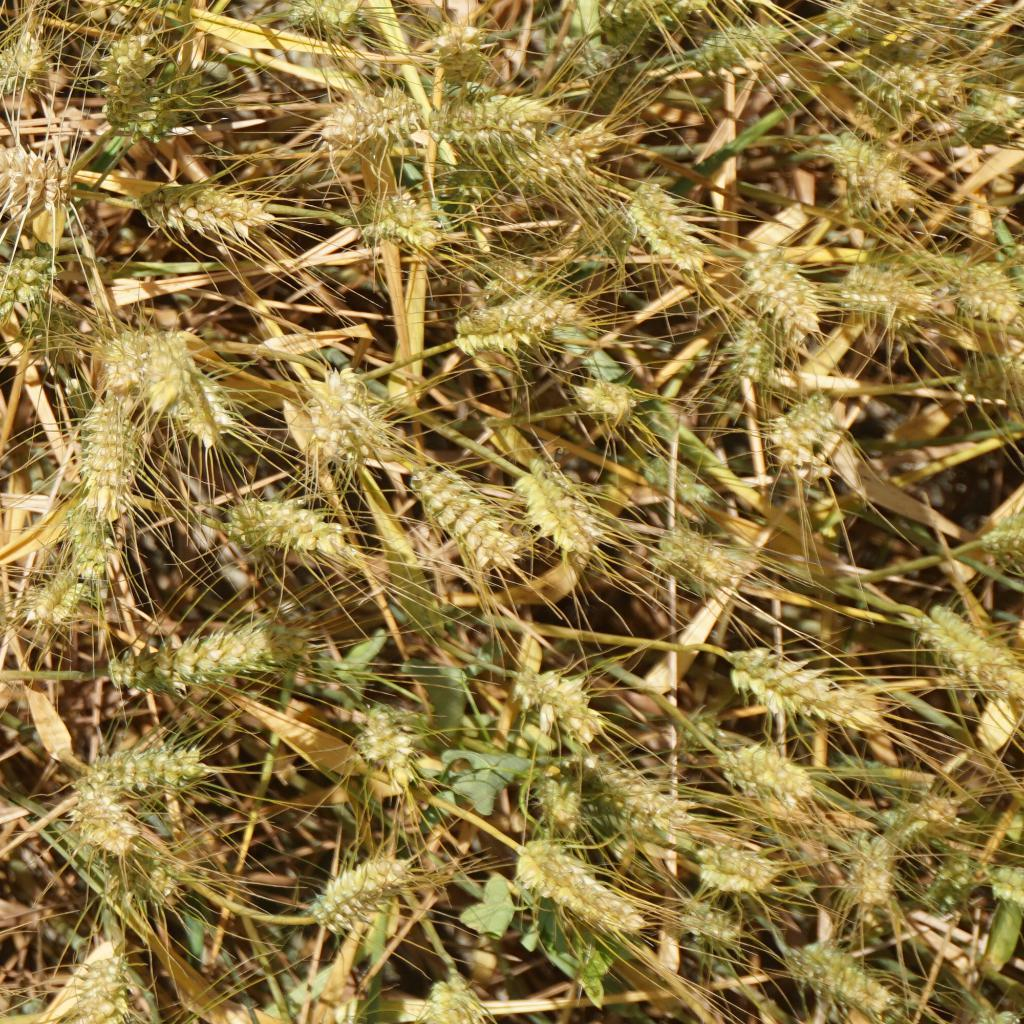0-0: (503, 833, 649, 944), (109, 626, 323, 691), (728, 644, 876, 722), (402, 458, 513, 562), (446, 295, 592, 368), (504, 455, 593, 563), (822, 109, 912, 214), (916, 605, 1018, 695), (145, 175, 293, 237), (784, 934, 901, 1010), (216, 494, 345, 560), (755, 376, 832, 485), (302, 857, 416, 929), (647, 531, 755, 599), (318, 81, 416, 151), (60, 500, 138, 587), (737, 251, 816, 336), (675, 10, 778, 75), (160, 351, 231, 442), (624, 180, 698, 265), (503, 140, 606, 200), (513, 660, 601, 729), (72, 402, 136, 494), (862, 51, 962, 109), (73, 934, 137, 1024), (0, 118, 60, 212), (841, 266, 929, 330), (46, 790, 140, 849), (434, 92, 557, 137), (320, 370, 388, 450), (349, 181, 430, 248), (947, 248, 1014, 327), (630, 449, 712, 513), (723, 738, 808, 797), (352, 713, 427, 779), (564, 373, 649, 430), (19, 553, 89, 622), (532, 763, 592, 842), (566, 203, 641, 266), (429, 7, 493, 80), (74, 748, 190, 788), (130, 73, 207, 133), (918, 842, 984, 912), (25, 294, 93, 359), (948, 348, 1024, 406), (601, 762, 671, 824), (839, 821, 894, 899), (90, 34, 152, 103), (716, 317, 778, 386), (0, 235, 47, 323), (956, 92, 1024, 151), (550, 22, 620, 76), (135, 854, 211, 903), (98, 328, 153, 394), (884, 776, 951, 830), (282, 0, 372, 39), (705, 845, 784, 888), (472, 256, 549, 300), (0, 23, 51, 88), (673, 890, 735, 942), (415, 979, 480, 1024), (977, 500, 1024, 559), (674, 707, 722, 758), (444, 151, 496, 197), (616, 0, 704, 26)
